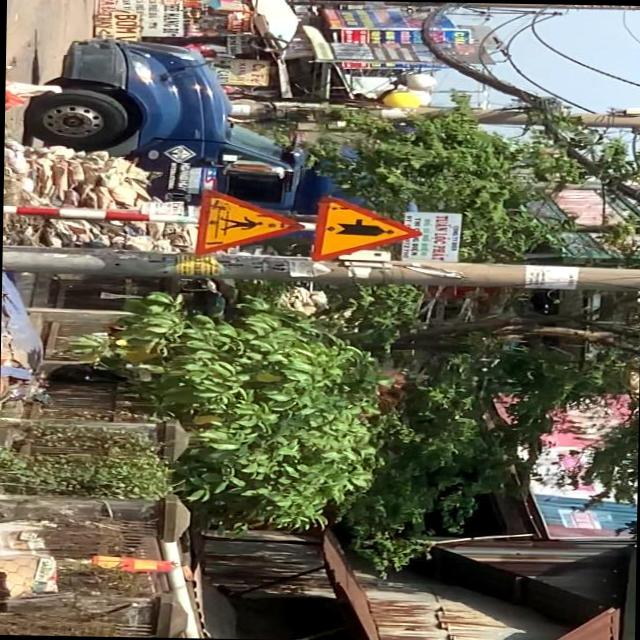W-207c: (308, 197, 419, 261)
W-224: (192, 190, 310, 258)
